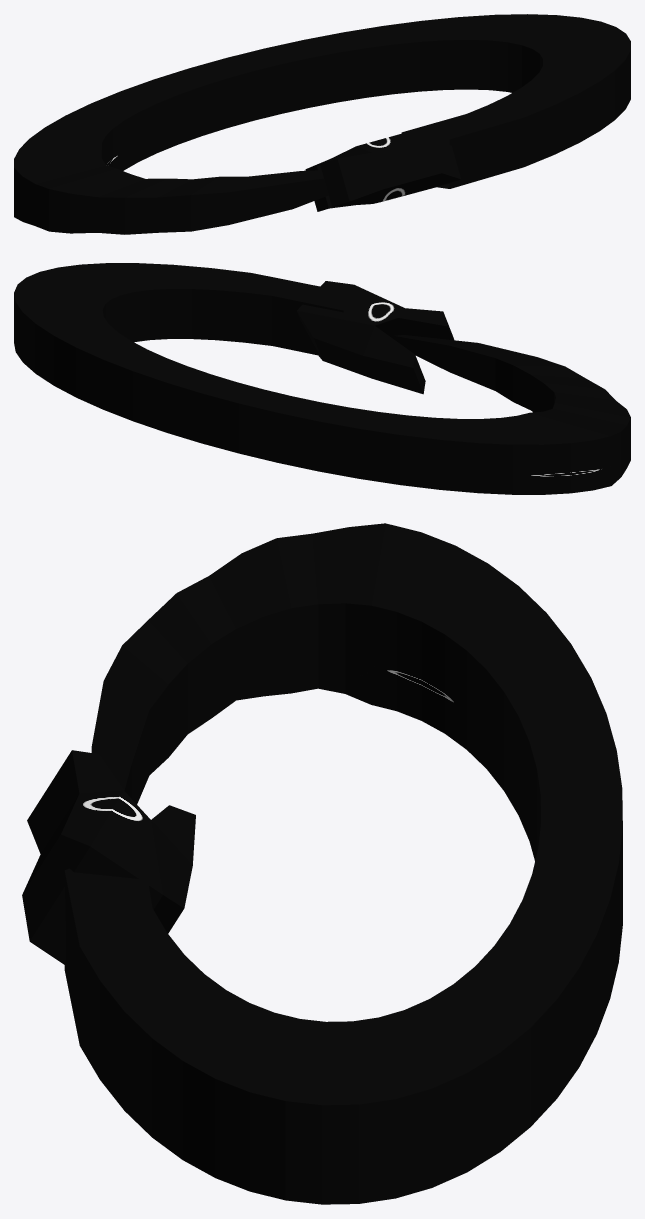
The model's file is uroborosu.fbx.
The picture shows the model from 3 angles, top to bottom: view 1: azimuth 30°, elevation 25°; view 2: azimuth 150°, elevation 25°; view 3: azimuth 270°, elevation 25°; orthographic projection. The views are drawn at different scales.
Parts seen in each view (by area): view 1: ベジエ円, 立方体.001; view 2: ベジエ円, 立方体.001; view 3: ベジエ円, 立方体.001.
Part boxes in pixels (bbox=[...]): ベジエ円: bbox=[14, 14, 630, 234]; 立方体.001: bbox=[305, 121, 461, 211]; ベジエ円: bbox=[14, 263, 630, 494]; 立方体.001: bbox=[297, 281, 454, 394]; ベジエ円: bbox=[64, 523, 622, 1204]; 立方体.001: bbox=[22, 750, 195, 965].
Size of the model in its own units: 23515 by 2793 by 10251.
Materials: 1 (1 with a texture image).
